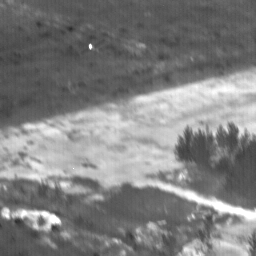aircraft: (90, 46, 92, 48)
